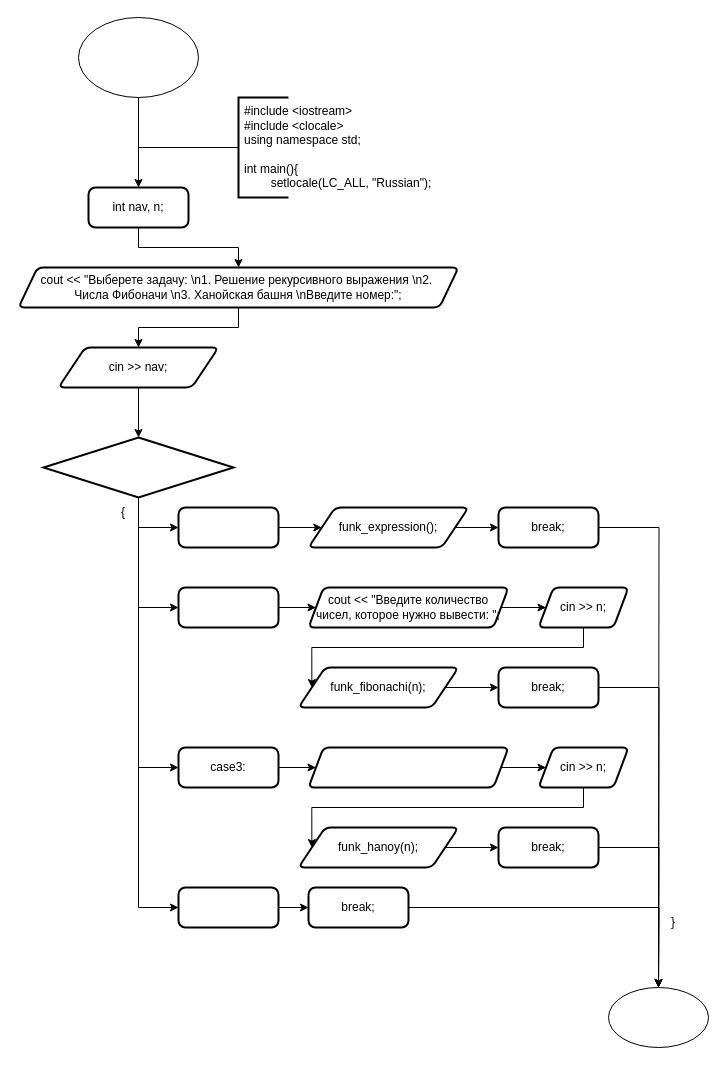
This 726x1065 diagram has some shape labels left out. Here are the shapes that lost their labels. From the top down, the centre of each, then its label:
(138,57): start
(138,467): switch
(228,527): case 1:
(228,607): case 2:
(408,767): cout << "Введите количество колец: ";
(228,907): default:
(658,1017): return 0:}
